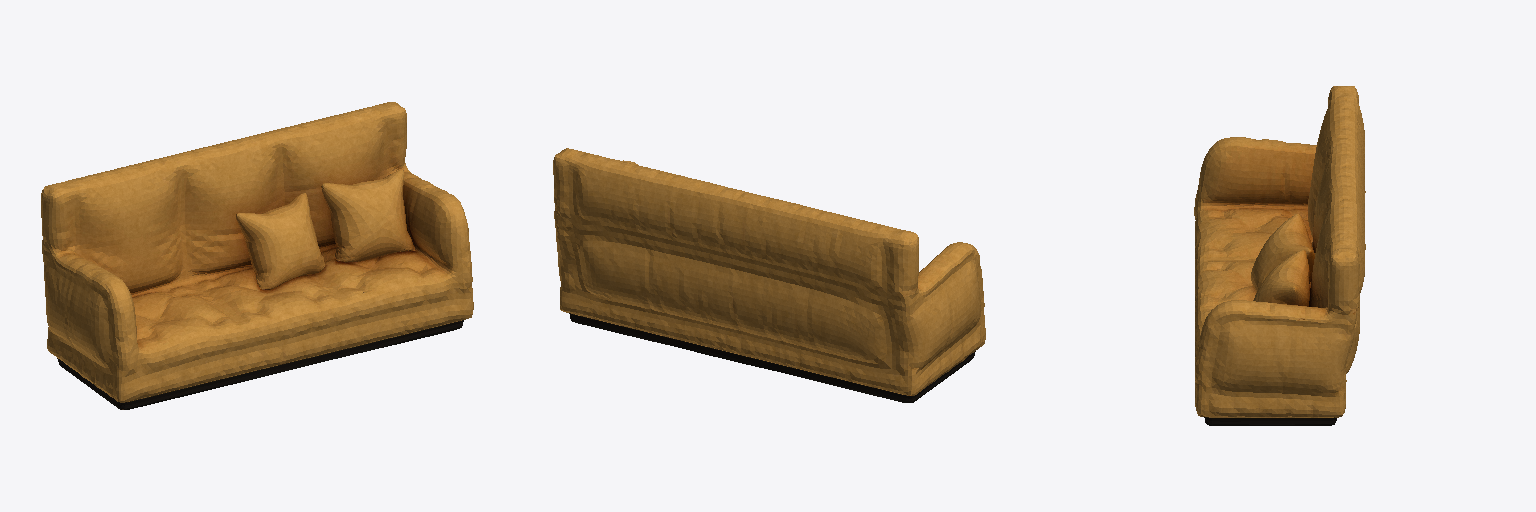
3 views of the same model, side by side, from view 1: azimuth 30°, elevation 25°; view 2: azimuth 150°, elevation 25°; view 3: azimuth 270°, elevation 25° (orthographic).
Parts seen in each view (by area): view 1: SofaGB_����������������.021_0; view 2: SofaGB_����������������.021_0; view 3: SofaGB_����������������.021_0.
Part boxes in pixels (x1,y1,x2,y2): SofaGB_����������������.021_0: (41, 102, 473, 409); SofaGB_����������������.021_0: (553, 148, 985, 402); SofaGB_����������������.021_0: (1194, 86, 1365, 425).
Size of the model in its own units: 2.48 by 1.12 by 0.9834.
Materials: 1 (1 with a texture image).